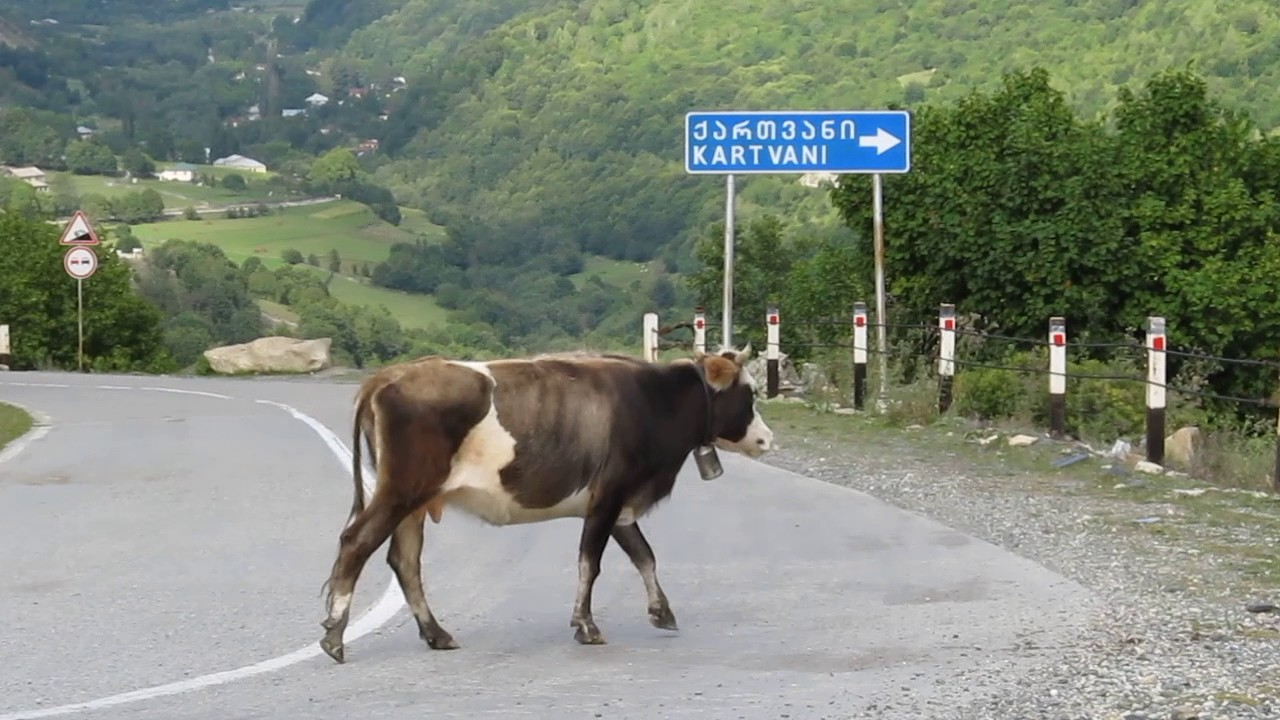inek: (317, 348, 784, 661)
